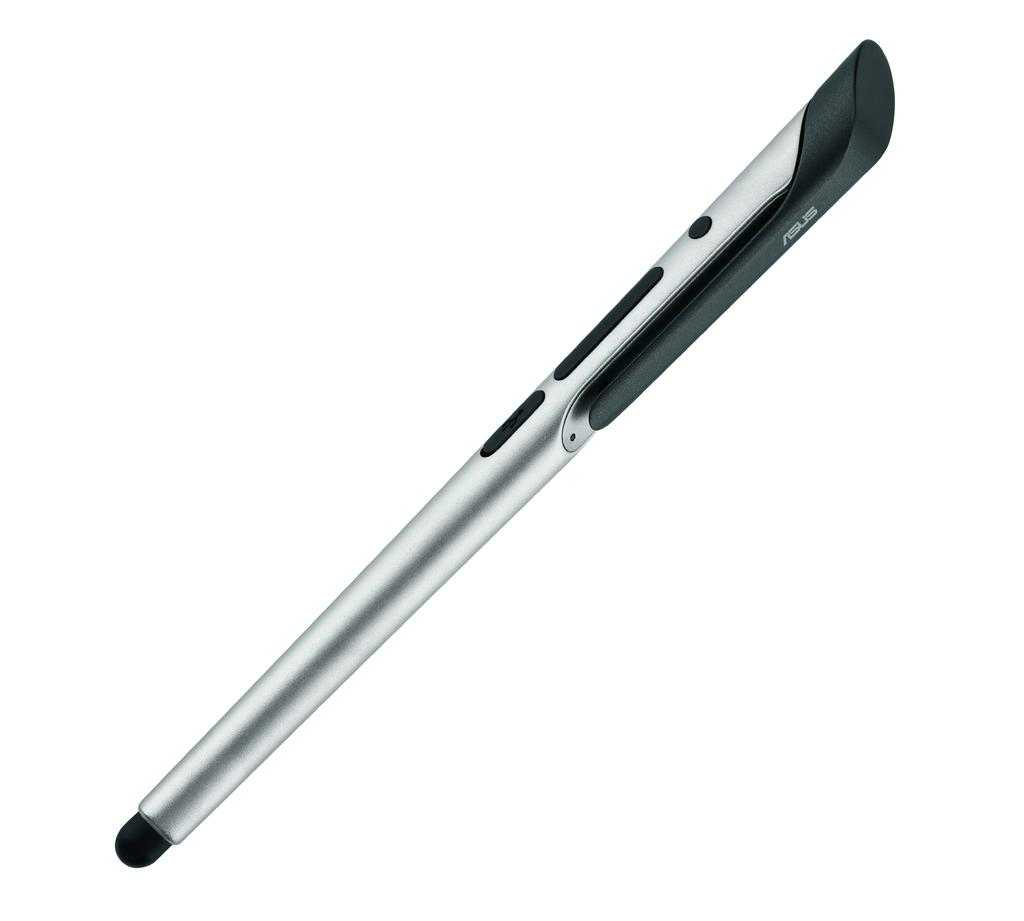pen: (105, 36, 897, 872)
